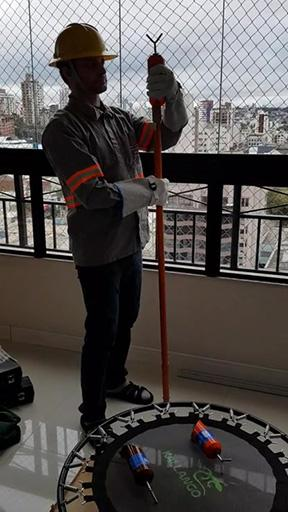Detector_Tensao_Contato: (121, 443, 158, 503), (190, 420, 230, 468), (144, 33, 168, 103)
Vara_Manobra: (149, 100, 170, 405)
